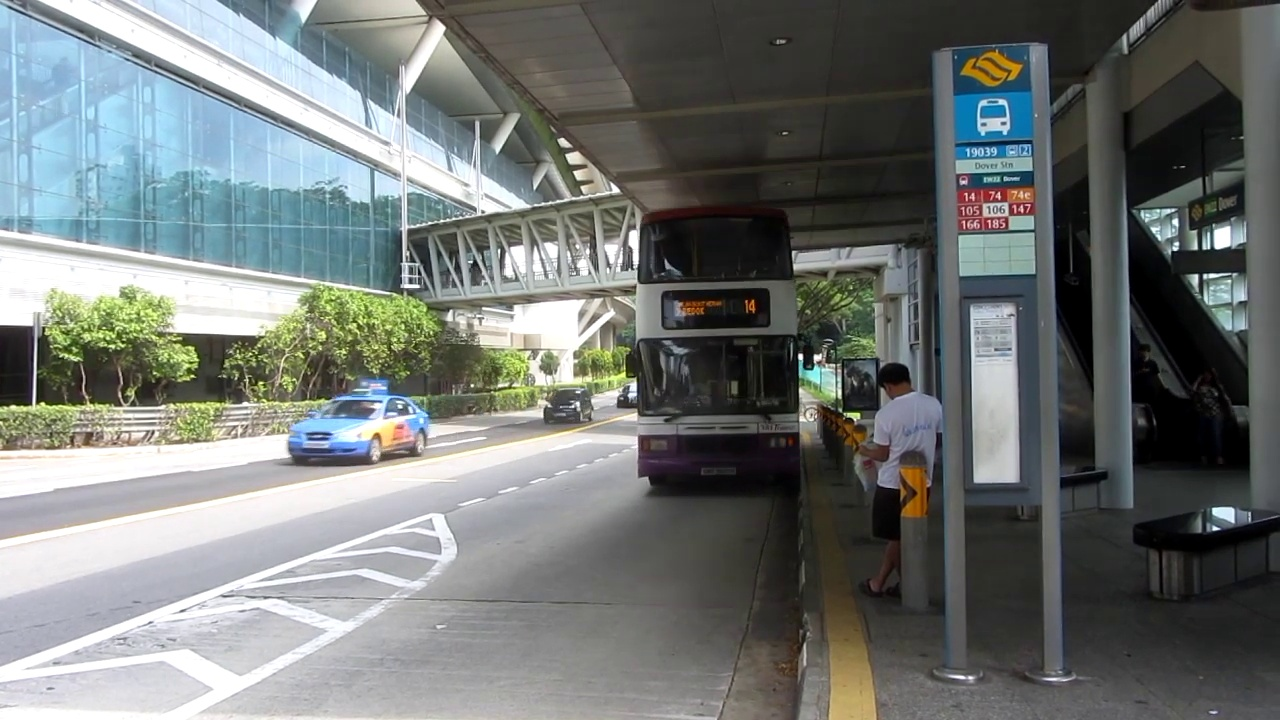bus panel: (669, 295, 762, 321)
